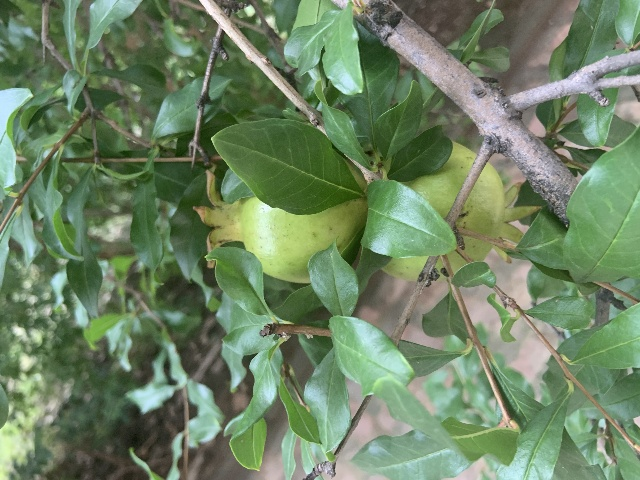mid-growth: (380, 140, 542, 281), (192, 158, 367, 283)
